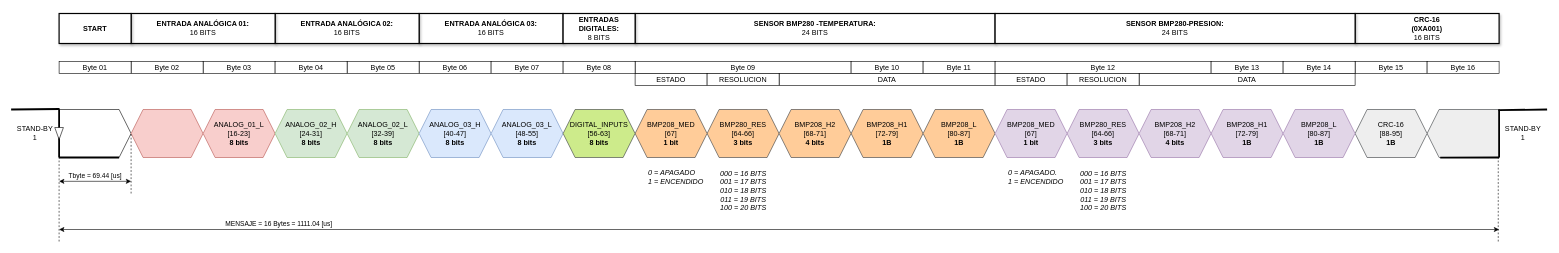
Some shapes in this 1559 by 253 pixel diagram are drawn without their labels. Here are the shapes that lost their labels. From the top down, the centre of each, then its label:
point (88, 133): START 0xAA [0-7] 8 bits
point (166, 133): ANALOG_01_H [8-15] 8 bits
point (1468, 133): CRC-16 [96-103] 1B
